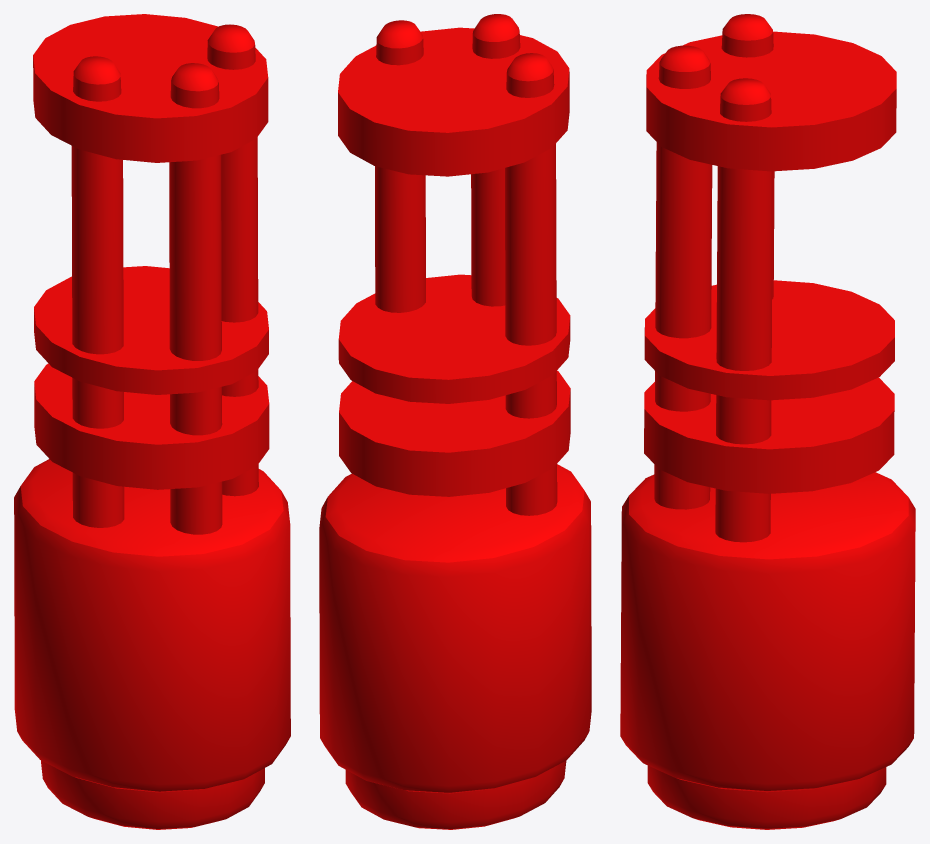
File: Parts_Machine gun_90fix.fbx
The picture shows the model from 3 angles, left to right: view 1: azimuth 30°, elevation 25°; view 2: azimuth 150°, elevation 25°; view 3: azimuth 270°, elevation 25°; orthographic projection.
Visible parts, largest first — view 1: Cylinder010; view 2: Cylinder010; view 3: Cylinder010.
Boxes of the visible parts, <box> form: Cylinder010: <box>14,14,290,829</box>; Cylinder010: <box>319,14,591,829</box>; Cylinder010: <box>620,14,915,829</box>.
Bounding box in the file's own units: 21.57 × 65.94 × 23.83.
